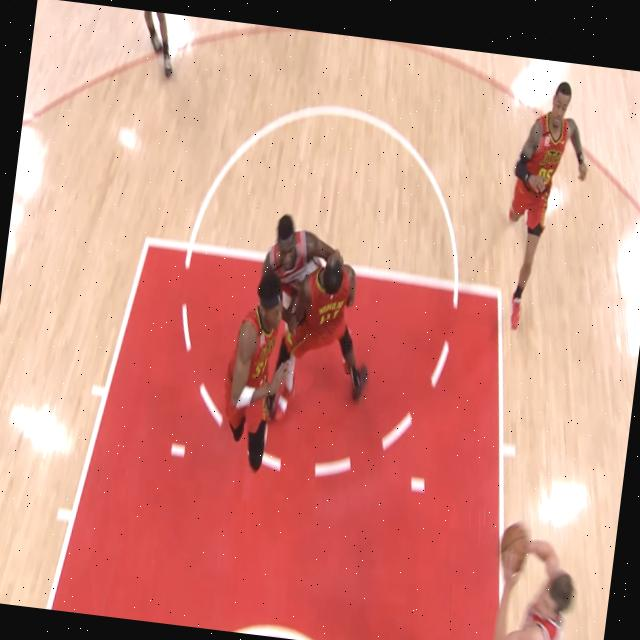foul: (186, 152, 424, 518)
